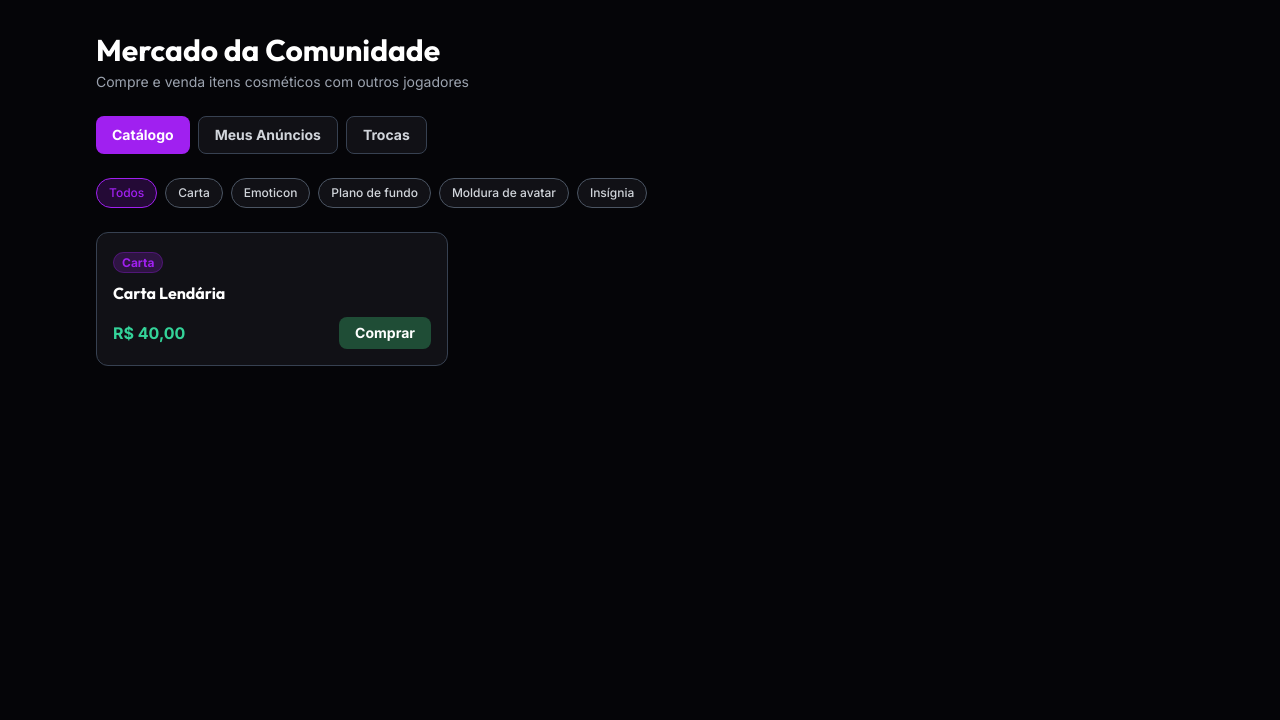
Market Page Component › exibe erro de compra sem fechar a modal de confirmação
Click the button "Comprar": x=385, y=333 [339,317,431,349]
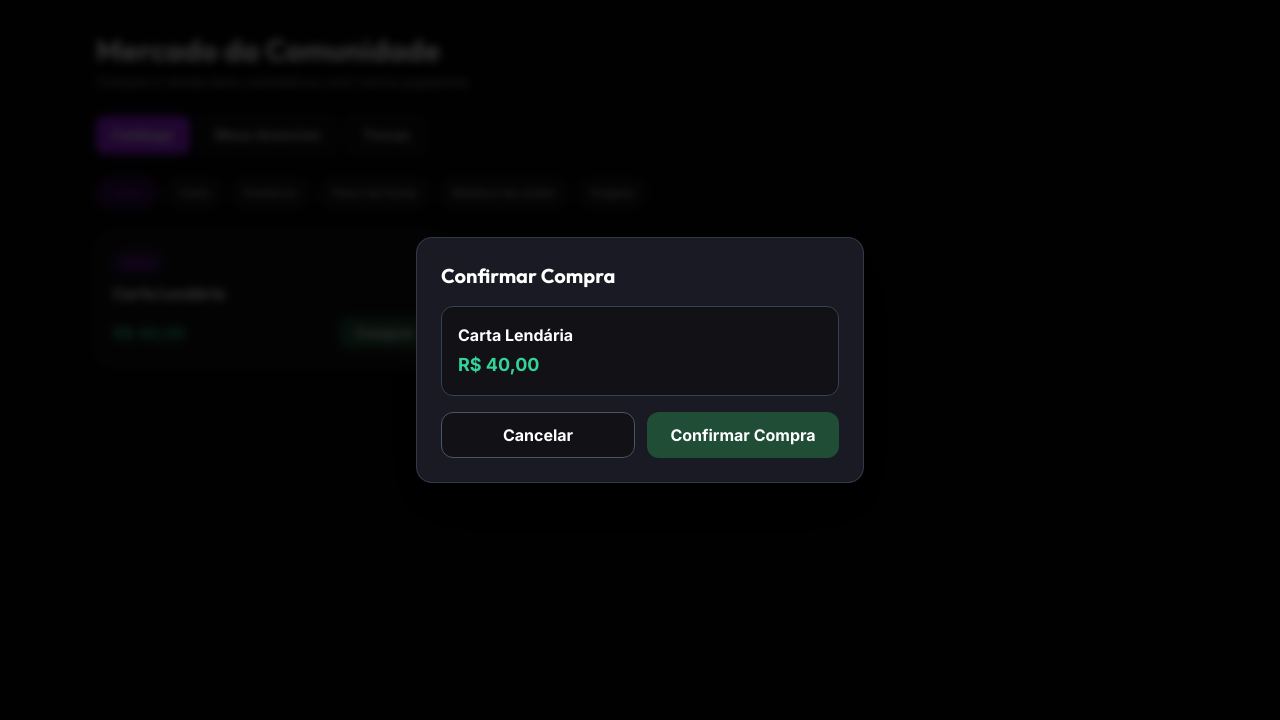
Click the button "Confirmar Compra": x=743, y=435 [647,412,839,458]
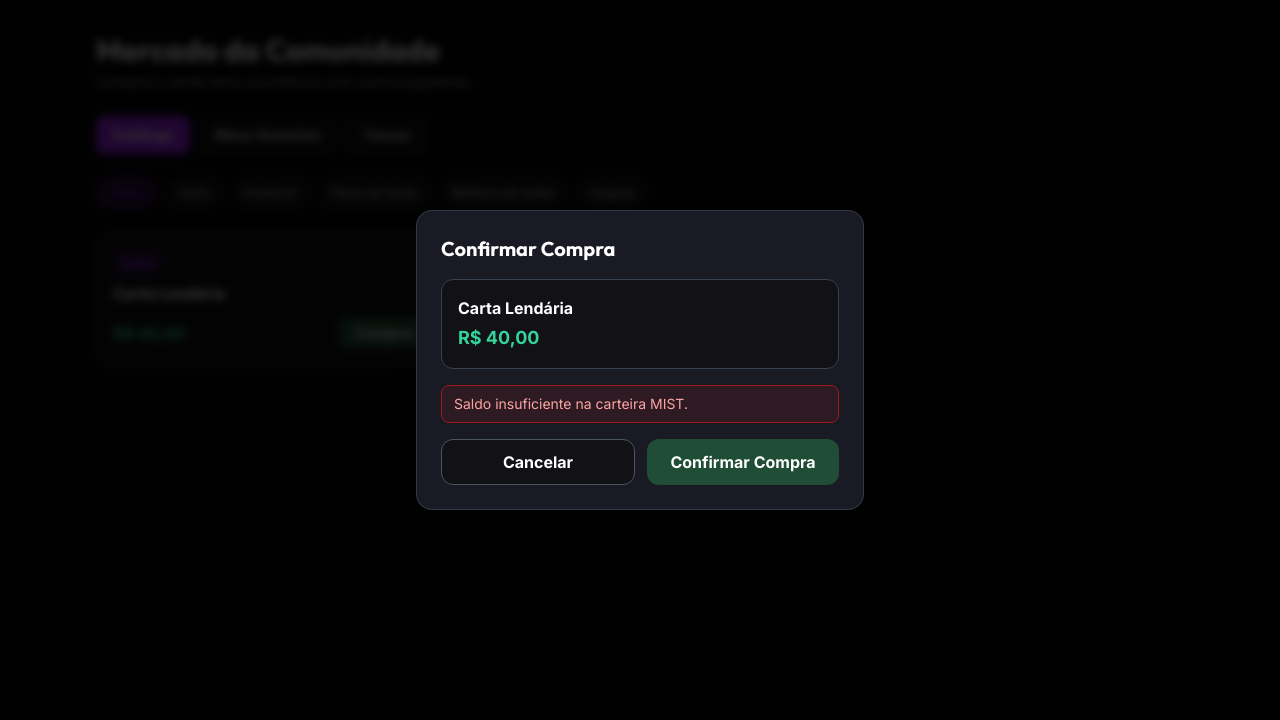
Expected: the heading "Confirmar Compra" is shown, [441,236,615,261]
Expected: the text "Saldo insuficiente na carteira MIST." is shown, [441,385,839,423]
